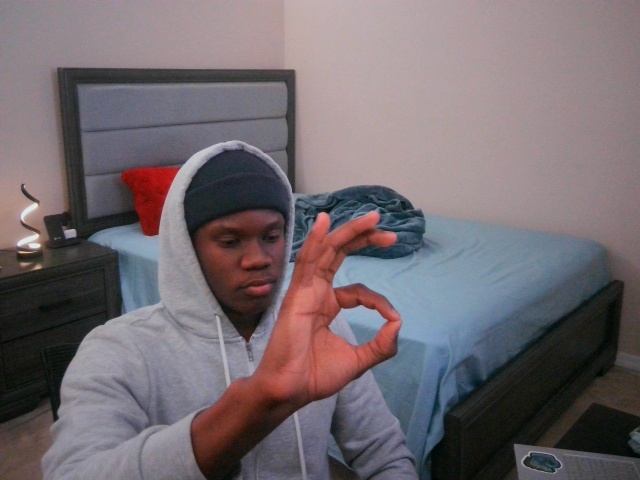OK: (254, 208, 404, 407)
